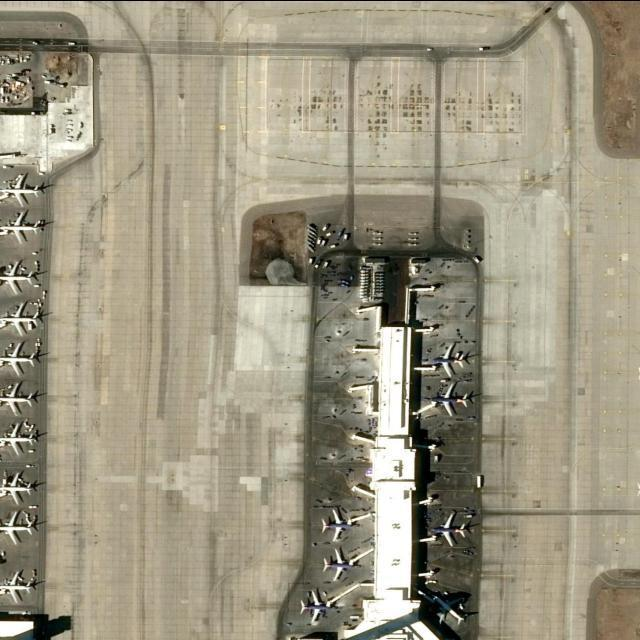Aircraft: (429, 586, 473, 624), (0, 338, 42, 375), (0, 302, 45, 336), (430, 338, 470, 376), (321, 545, 363, 581), (0, 209, 43, 243), (1, 258, 41, 294), (431, 381, 473, 415), (1, 172, 43, 206), (300, 587, 340, 621), (433, 509, 470, 545), (0, 381, 39, 414), (0, 421, 37, 455), (1, 568, 37, 602), (0, 470, 34, 505), (321, 509, 360, 539), (0, 510, 35, 543)
